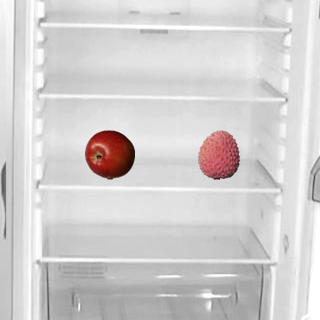Apple Braeburn: (84, 129, 134, 179)
Lychee: (193, 129, 243, 179)
